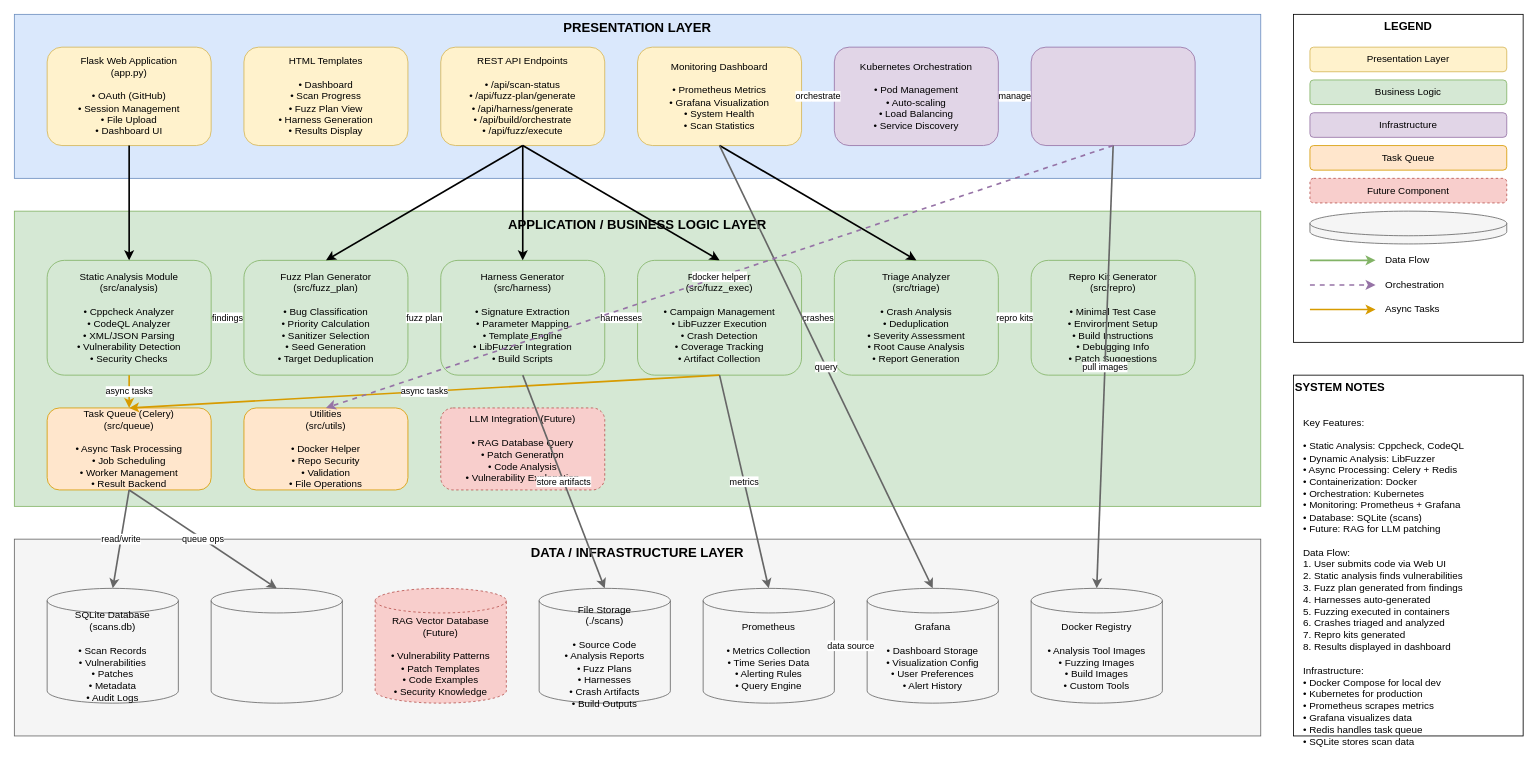
Image size: 1538x762. Some labels were removed from this diagram. The centre of each missing label's shape, as x and y in pixels:
"Data Storage" goes at point (1408, 227).
"Docker Containers • App Container • Celery Worker • Redis • Analysis Tools" goes at point (1112, 96).
"Redis • Task Queue • Result Backend • Session Cache • Job Status" goes at point (276, 645).
